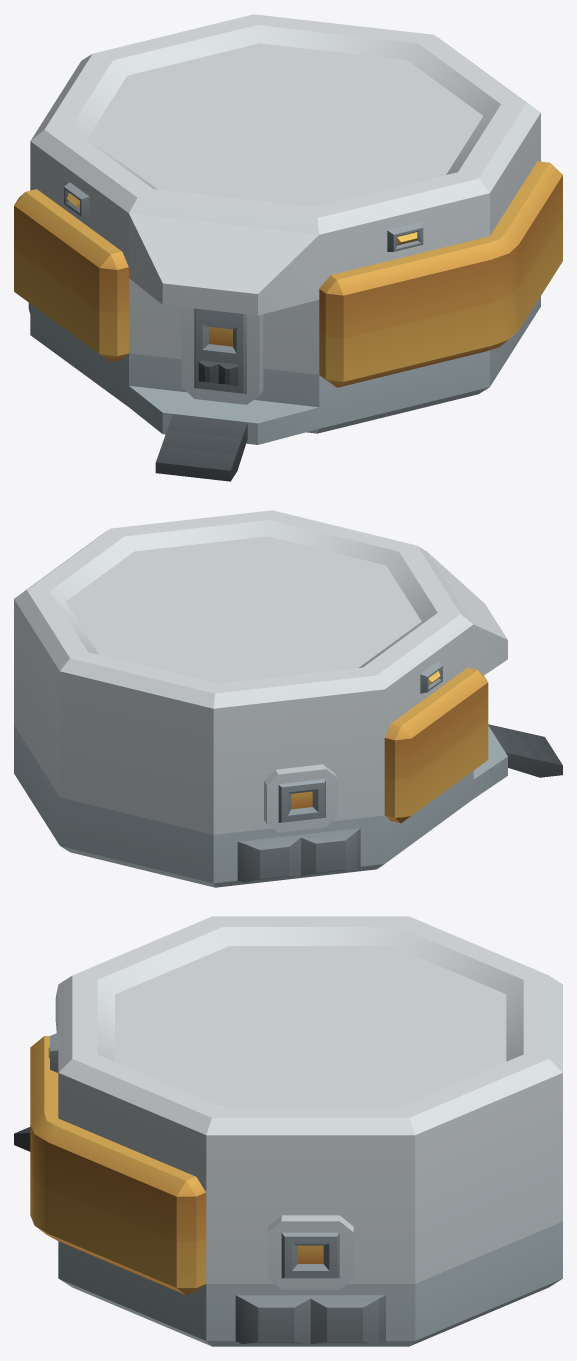
Rendered from Dormitory2.glb.
3 views of the same model, one above another, from view 1: azimuth 30°, elevation 25°; view 2: azimuth 150°, elevation 25°; view 3: azimuth 270°, elevation 25° (orthographic). The views are drawn at different scales.
Parts seen in each view (by area): view 1: basemodule_A_Cylinder.2721; view 2: basemodule_A_Cylinder.2721; view 3: basemodule_A_Cylinder.2721.
Part boxes in pixels (x1,y1,x2,y2): basemodule_A_Cylinder.2721: (14, 14, 562, 481); basemodule_A_Cylinder.2721: (14, 510, 562, 887); basemodule_A_Cylinder.2721: (14, 916, 562, 1346).
Size of the model in its own units: 2.25 by 1 by 2.18.
1 material, 1 textured.
